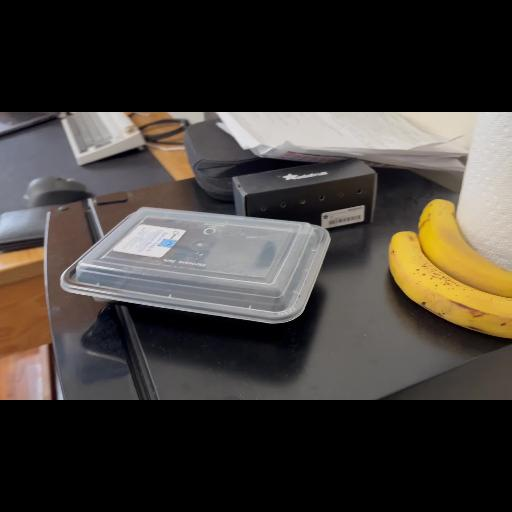rigid_plastic_container: (54, 186, 340, 336)
